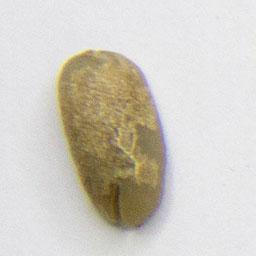longberry: (53, 43, 173, 232)
